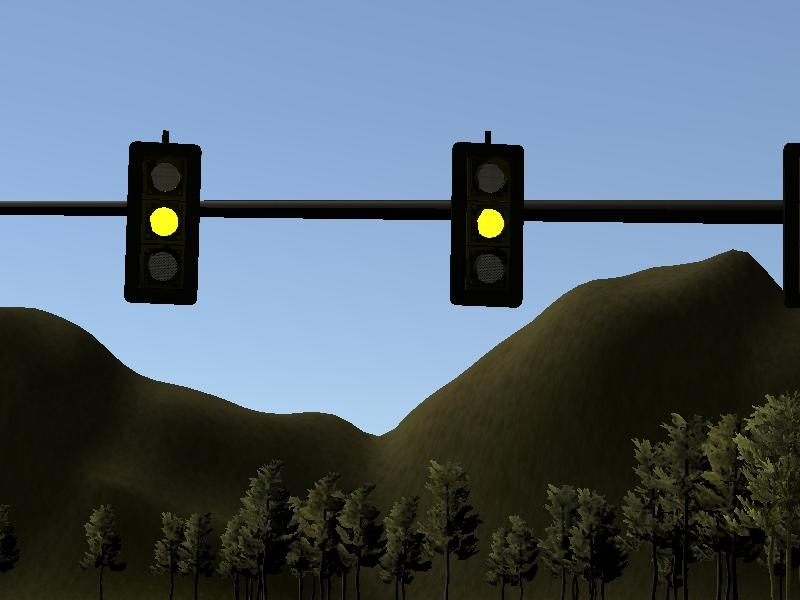yellow: (118, 125, 208, 315), (439, 127, 529, 316)
